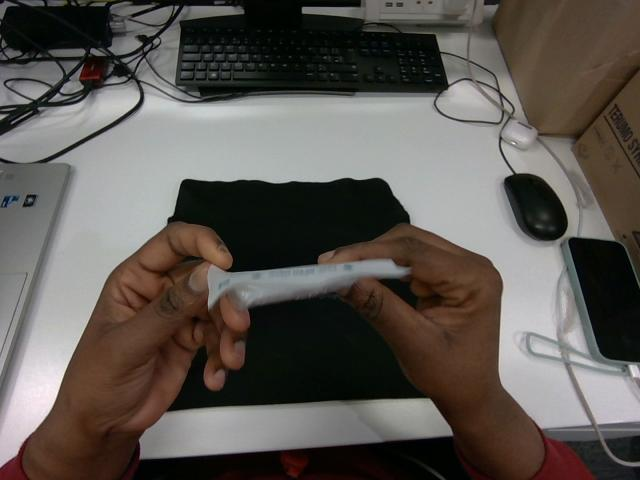gauze: (208, 259, 410, 308)
